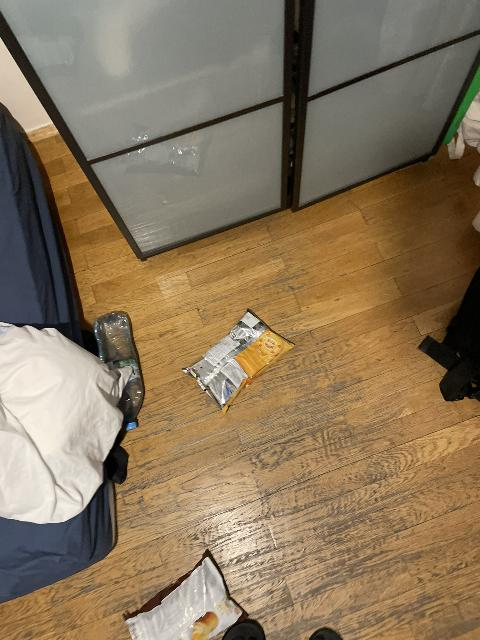Chio Hula Hoops Cheese 70g: (184, 309, 298, 413)
Lays Beef Grilled Ribs 125g: (124, 548, 246, 636)
